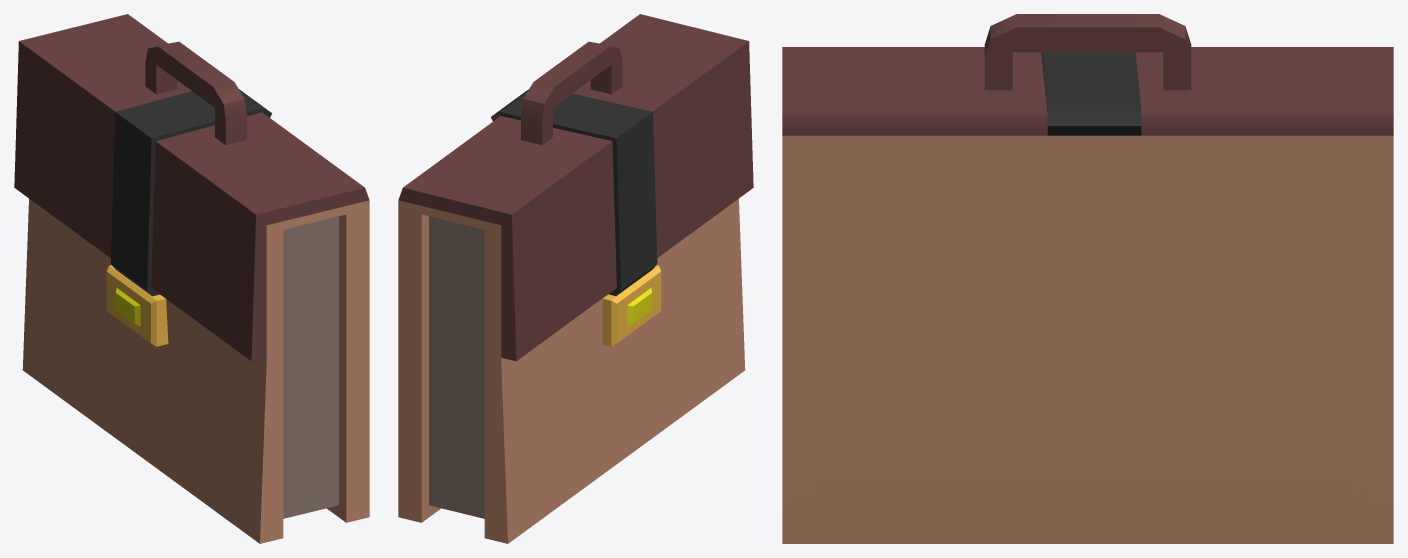
File: Briefcase_Leather.fbx
The picture shows the model from 3 angles, left to right: view 1: azimuth 30°, elevation 25°; view 2: azimuth 150°, elevation 25°; view 3: azimuth 270°, elevation 25°; orthographic projection. The views are drawn at different scales.
Visible parts, largest first — view 1: Briefcase_Leather; view 2: Briefcase_Leather; view 3: Briefcase_Leather.
Part boxes in pixels (box(x1,y1,x2,y2)): Briefcase_Leather: box(14, 14, 369, 543); Briefcase_Leather: box(398, 14, 753, 543); Briefcase_Leather: box(782, 14, 1393, 543).
Size of the model in its own units: 21.15 by 58.41 by 66.18.
